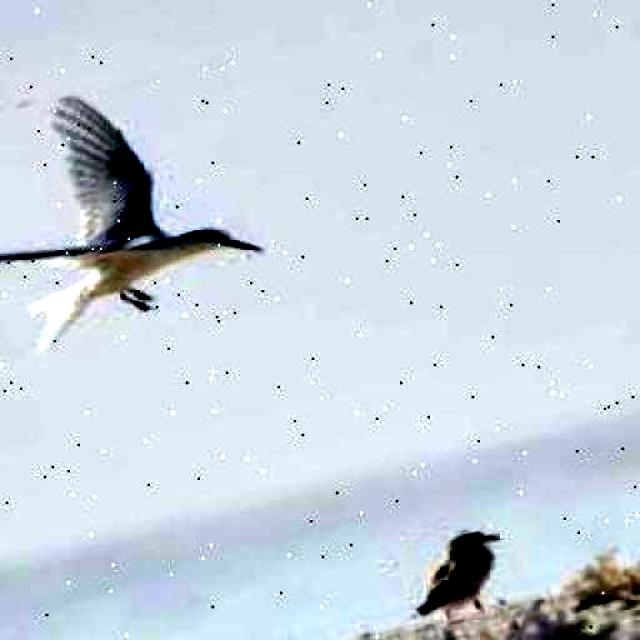airplane: (0, 56, 282, 382), (392, 519, 516, 628)
